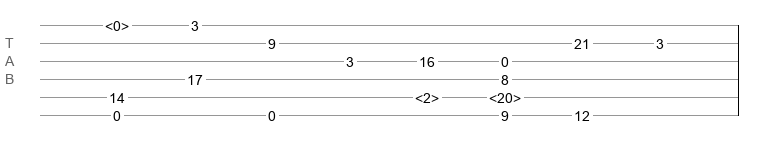0: (113, 108, 121, 118), (268, 108, 276, 118), (501, 54, 509, 64)
12: (574, 108, 590, 118)
14: (109, 90, 125, 100)
16: (419, 54, 435, 64)
17: (187, 72, 203, 82)
21: (574, 36, 590, 46)
3: (191, 18, 199, 28), (346, 54, 354, 64), (656, 36, 664, 46)
8: (501, 72, 509, 82)
9: (268, 36, 276, 46), (501, 108, 509, 118)
harmonic: (489, 90, 521, 100), (105, 18, 129, 28), (415, 90, 439, 100)
